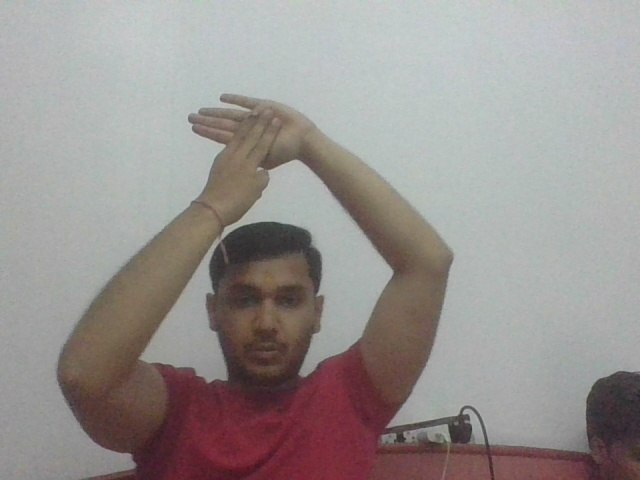M: (183, 88, 302, 192)
